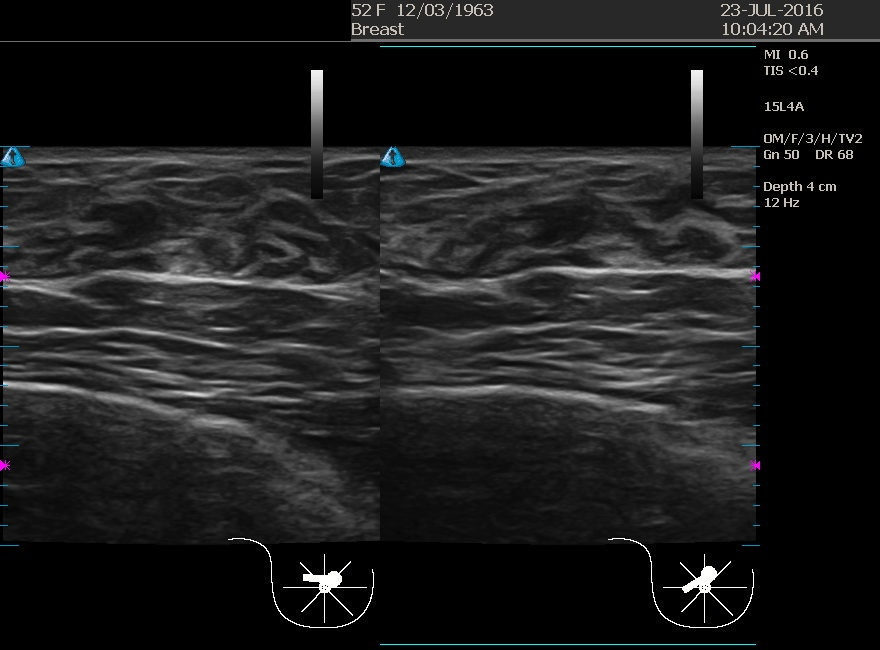BIRADS_2: (31, 149, 223, 341), (442, 150, 634, 342)
